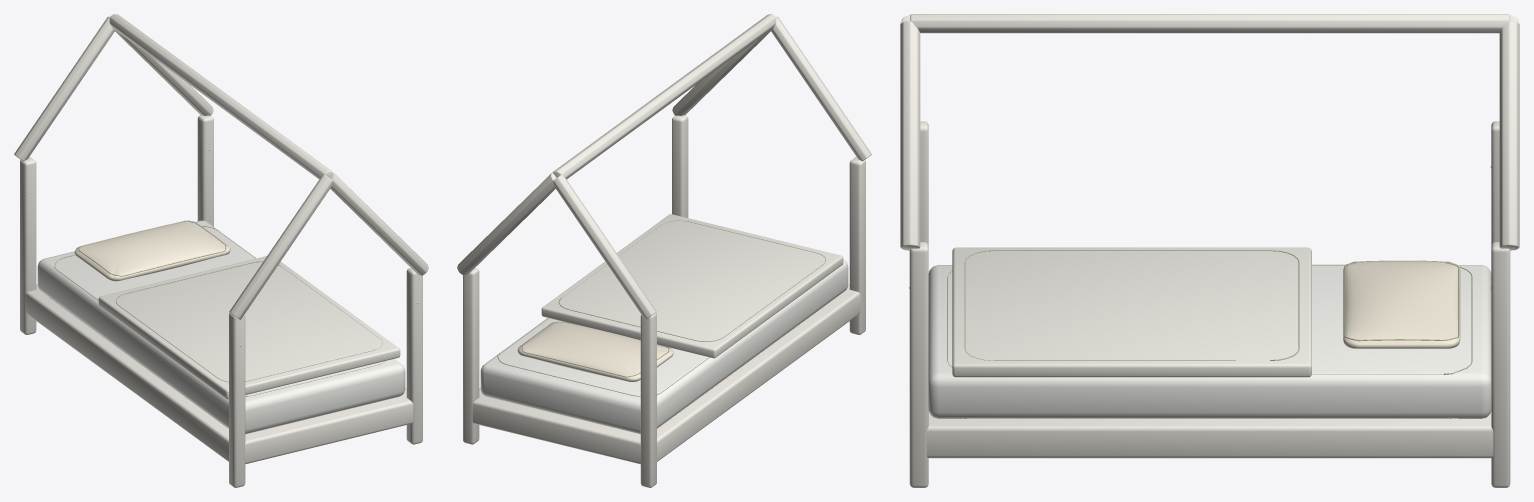
File: kids-house-bed.glb
3 renders of one model, left to right at view 1: azimuth 30°, elevation 25°; view 2: azimuth 150°, elevation 25°; view 3: azimuth 270°, elevation 25°, orthographic. The views are drawn at different scales.
Visible parts, largest first — view 1: catalog_surface_RealismUV; view 2: catalog_surface_RealismUV; view 3: catalog_surface_RealismUV.
Boxes of the visible parts, x1=… form: catalog_surface_RealismUV: x1=14, y1=14, x2=428, y2=487; catalog_surface_RealismUV: x1=457, y1=14, x2=871, y2=487; catalog_surface_RealismUV: x1=900, y1=14, x2=1519, y2=487.
Size of the model in its own units: 1.05 by 1.5 by 2.05.
